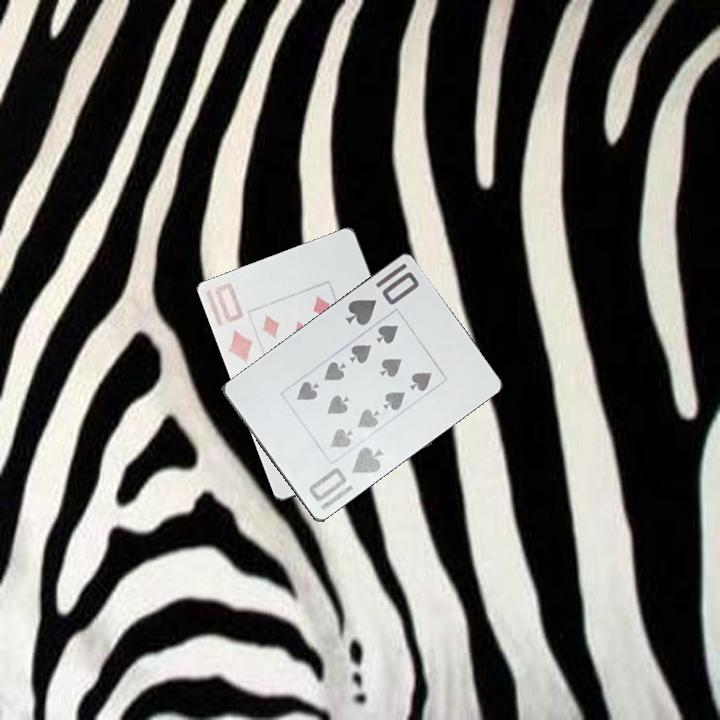Td: (212, 280, 257, 367)
Ts: (341, 260, 422, 329), (305, 444, 388, 505)
